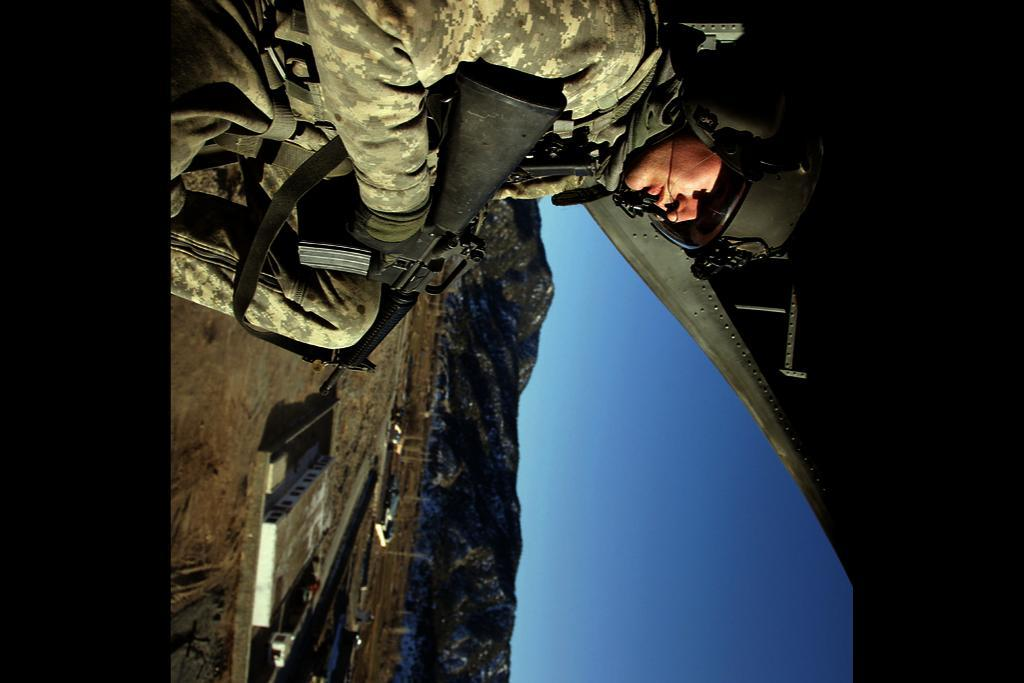gun: (298, 66, 566, 395)
